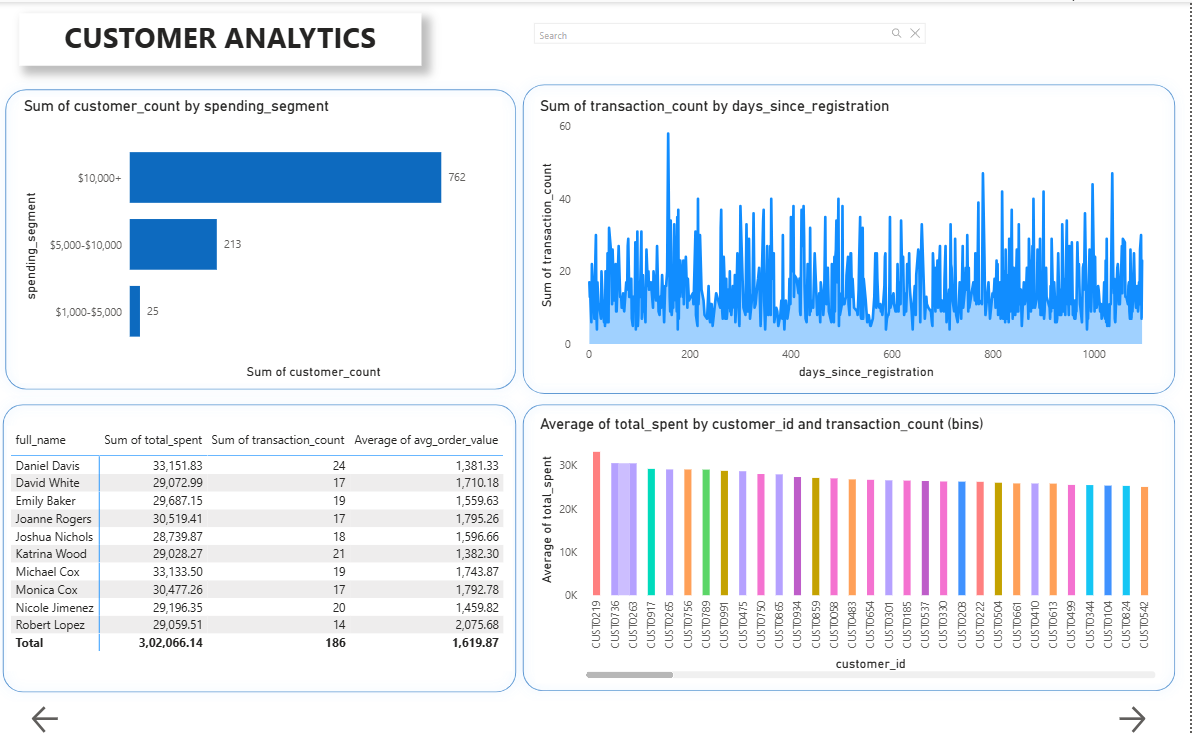

This screenshot's page, from the dashboard's own definition file:
{"tool":"powerbi","page":{"name":"CUSTOMER ANALYTICS","canvas":[1350,830],"ordinal":2},"visuals":[{"type":"shape","box":[0,442.8,601.1,346.9],"z":0},{"type":"shape","box":[3,86.7,598,360.6],"z":1000},{"type":"shape","box":[585.8,442.8,757.8,345.4],"z":2000},{"type":"shape","box":[585.8,82.2,757.8,371.3],"z":3000},{"type":"clusteredBarChart","fields":{"Category":["query3.spending_segment"],"Y":["query3.customer_count"]},"box":[28.9,106.5,544.8,322.6],"z":4000},{"type":"areaChart","fields":{"Category":["query7.days_since_registration"],"Y":["query7.transaction_count"]},"box":[611.7,106.5,704.5,322.6],"z":5000},{"type":"pivotTable","fields":{"Rows":["query7.full_name"],"Values":["query7.total_spent","query7.transaction_count","query7.avg_order_value"]},"box":[15.2,477.8,570.6,276.9],"z":6000},{"type":"ribbonChart","fields":{"Category":["query7.customer_id"],"Y":["query7.total_spent"],"Series":["query7.transaction_count (bins)"]},"box":[611.7,465.6,704.5,302.8],"z":7000},{"type":"textbox","box":[28.9,12.2,453.5,59.3],"z":8000},{"type":"textSearchSlicerF85E2E78BE4A4D7D9F99ED75B5D71C85","fields":{"fields":["query7.full_name"]},"box":[601.1,13.7,461.1,59.3],"z":9000},{"type":"actionButton","box":[1264.5,789.7,51.7,39.6],"z":10000},{"type":"actionButton","box":[39.6,789.7,45.6,39.6],"z":11000}]}

Visuals, with their boxes in screenshot pixels (x1, y1, x2, y2), scaled from the page's 1350x830 canvas onto the 1192x735 screenshot:
shape: 0 392 531 699
shape: 3 77 531 396
shape: 517 392 1186 698
shape: 517 73 1186 402
clusteredBarChart - query3.spending_segment x query3.customer_count: 26 94 507 380
areaChart - query7.days_since_registration x query7.transaction_count: 540 94 1162 380
pivotTable - query7.full_name x query7.total_spent: 13 423 517 668
ribbonChart - query7.customer_id x query7.total_spent: 540 412 1162 680
textbox: 26 11 426 63
textSearchSlicerF85E2E78BE4A4D7D9F99ED75B5D71C85 - query7.full_name: 531 12 938 65
actionButton: 1117 699 1162 734
actionButton: 35 699 75 734
